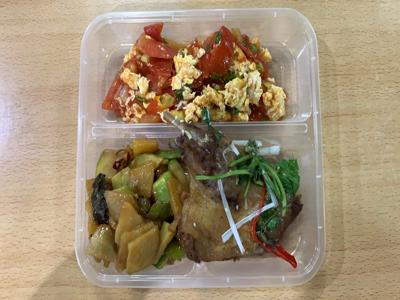jdxhs: (97, 19, 299, 123)
